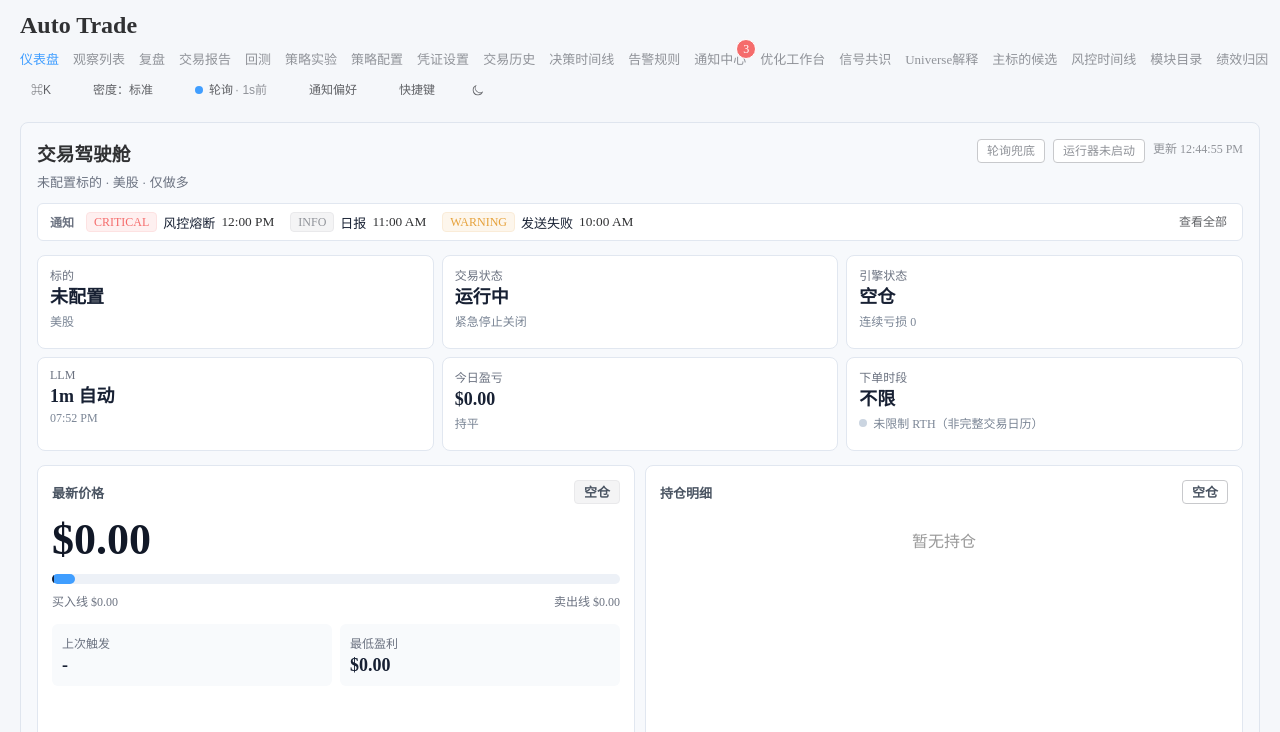
Test: Global connection health › offers a copy-health-snapshot action in the popover
Expected: the link "仪表盘" is shown, [20,49,59,68]
Click the button with test id "nav-health" at (231, 90), box [184,78,278,102]
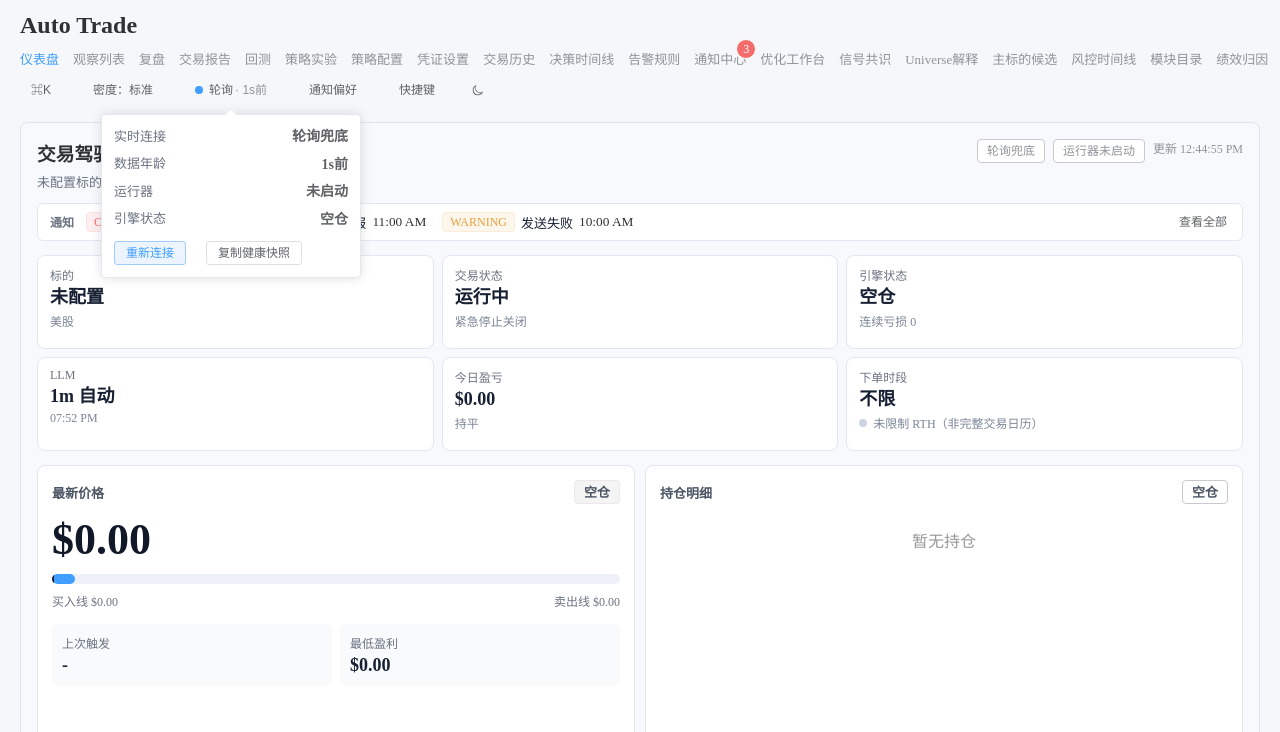
Expected: the button with test id "health-copy-snapshot" is shown, [206,241,302,265]
Expected: the text with test id "health-copy-snapshot" reads "复制健康快照", [218,246,290,260]
